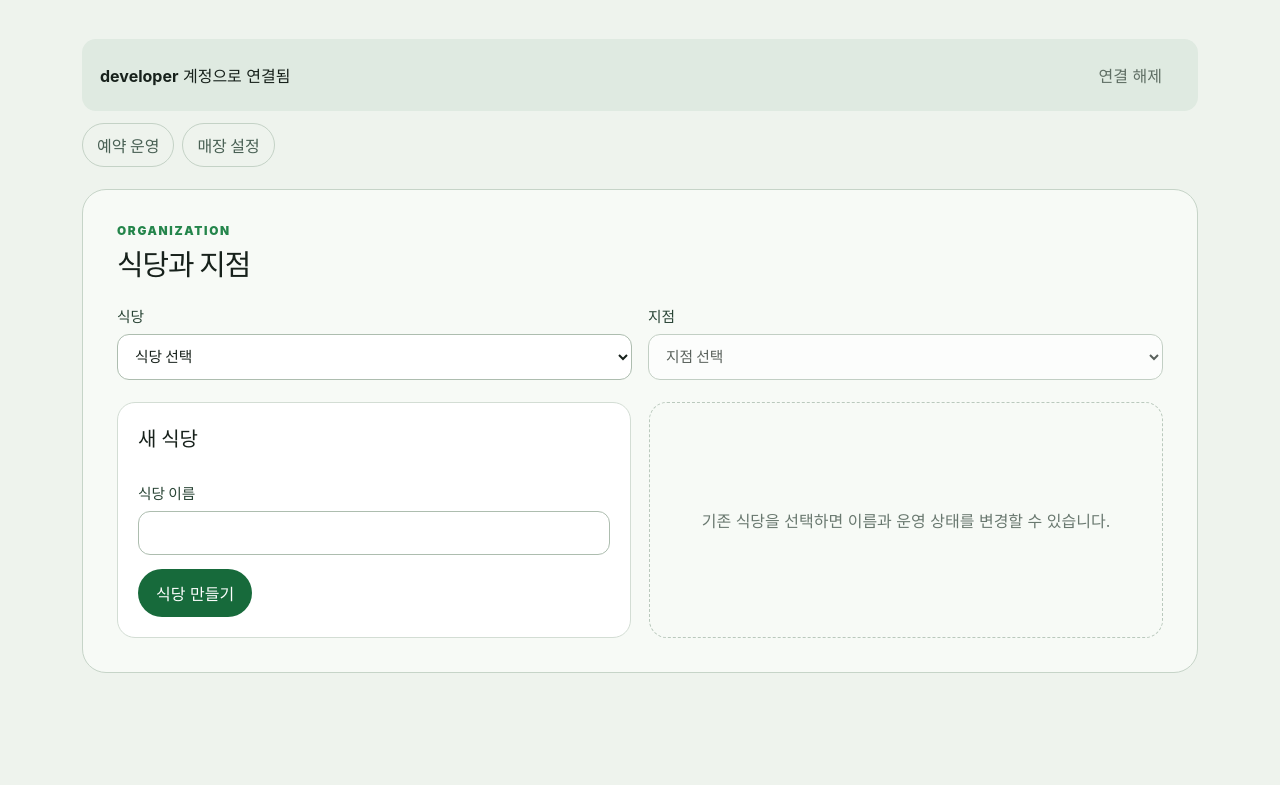
Test: AdminSettingsPage › creates a restaurant through the shared administrator session
The width and height of the screenshot is (1280, 785).
(page scrolled)
Type "새 식당" into the field labelled "식당 이름" at (374, 534), box [138,512,610,556]
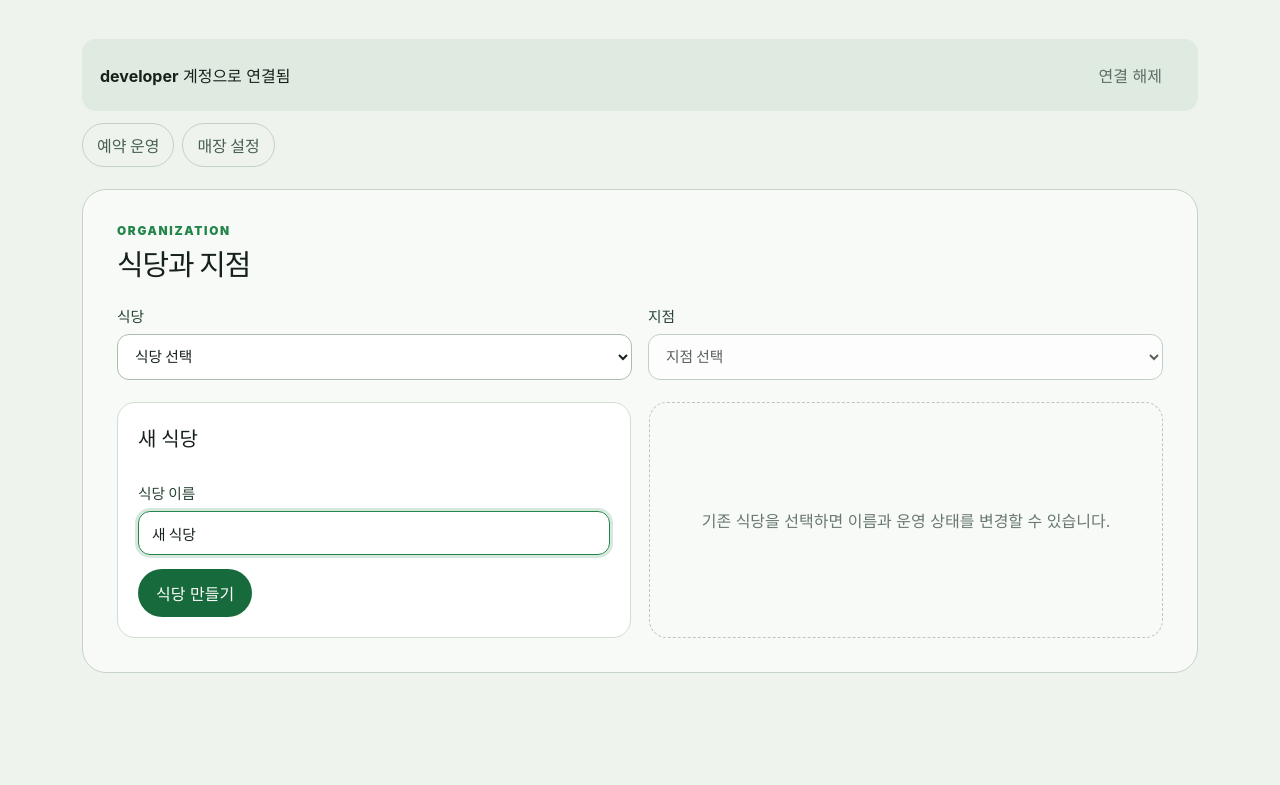
Click the button "식당 만들기" at (195, 594), box [138,570,252,618]
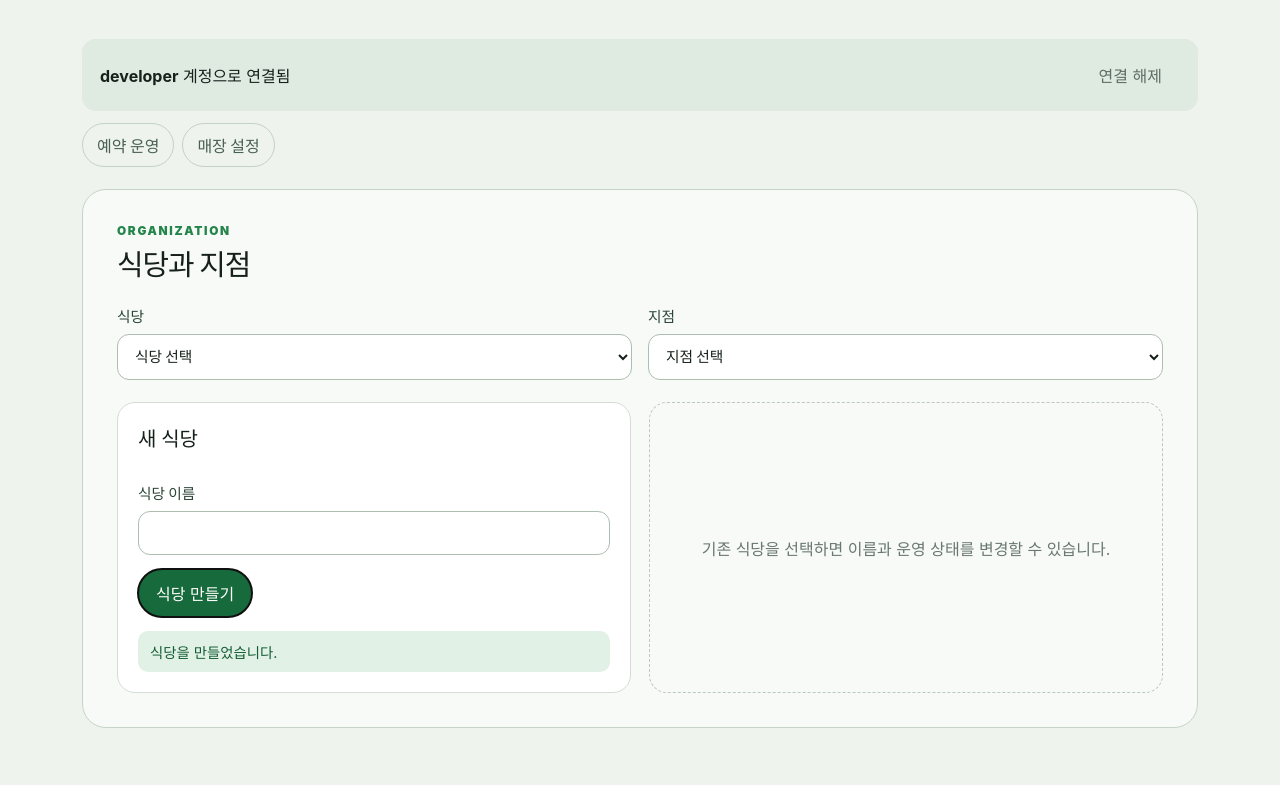
Now the text "식당을 만들었습니다." is shown, box [138,632,610,672]
